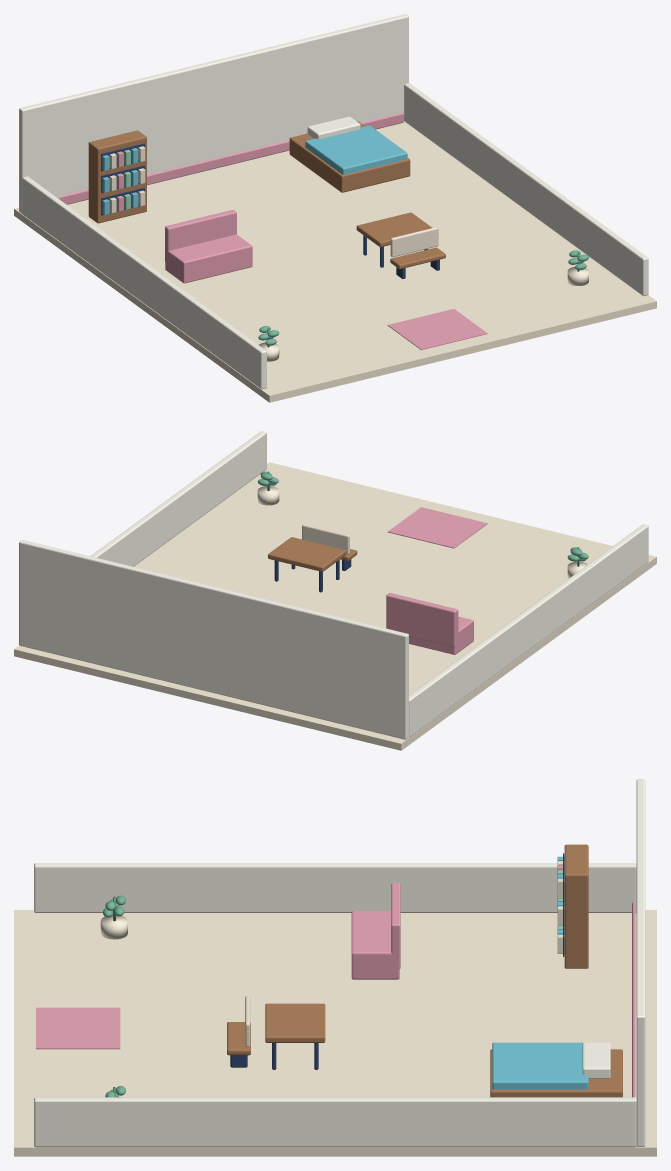
File: house_resident_a-interior.glb
3 views of the same model, one above another, from view 1: azimuth 30°, elevation 25°; view 2: azimuth 150°, elevation 25°; view 3: azimuth 270°, elevation 25° (orthographic). The views are drawn at different scales.
Visible parts, largest first — view 1: house_resident_a · furnished cutaway interior; view 2: house_resident_a · furnished cutaway interior; view 3: house_resident_a · furnished cutaway interior.
Boxes of the visible parts, x1,y1,x2,y2 form: house_resident_a · furnished cutaway interior: (14,14,656,402); house_resident_a · furnished cutaway interior: (14,431,656,750); house_resident_a · furnished cutaway interior: (14,779,656,1156).
Bounding box in the file's own units: 14.02 × 3.84 × 16.
